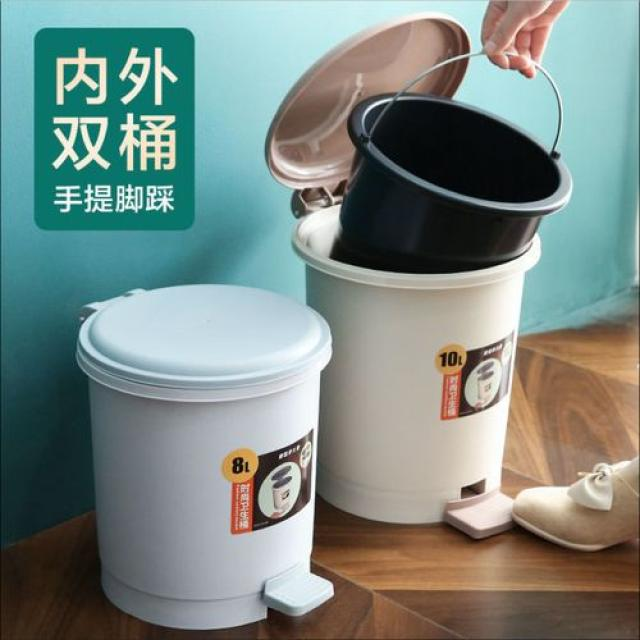dustbin: (264, 11, 608, 548), (68, 278, 340, 636)
